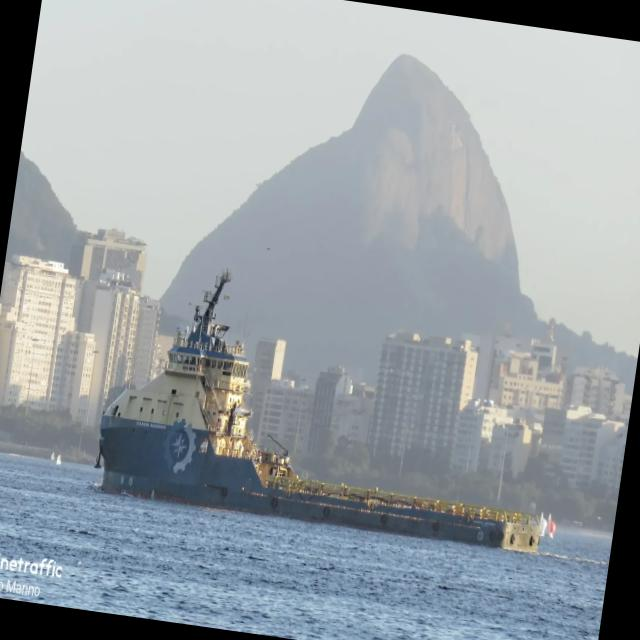Offshore: (95, 272, 537, 551)
